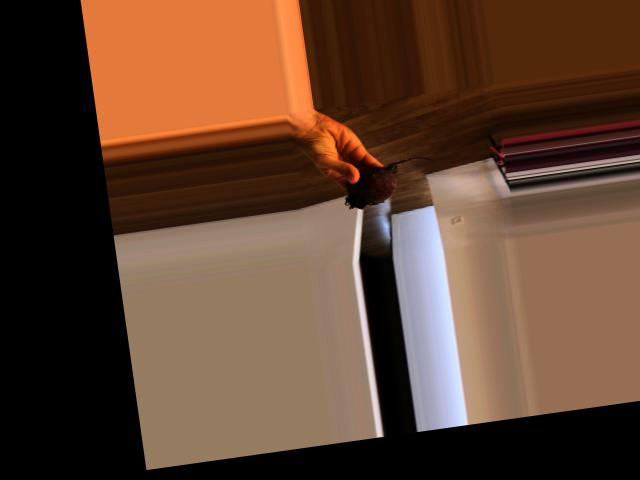beet: (341, 154, 439, 210)
